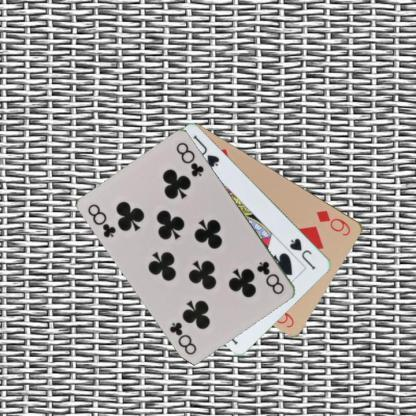6d: (314, 208, 352, 238)
8c: (254, 258, 286, 298), (86, 201, 118, 239)
Js: (287, 235, 318, 272)
